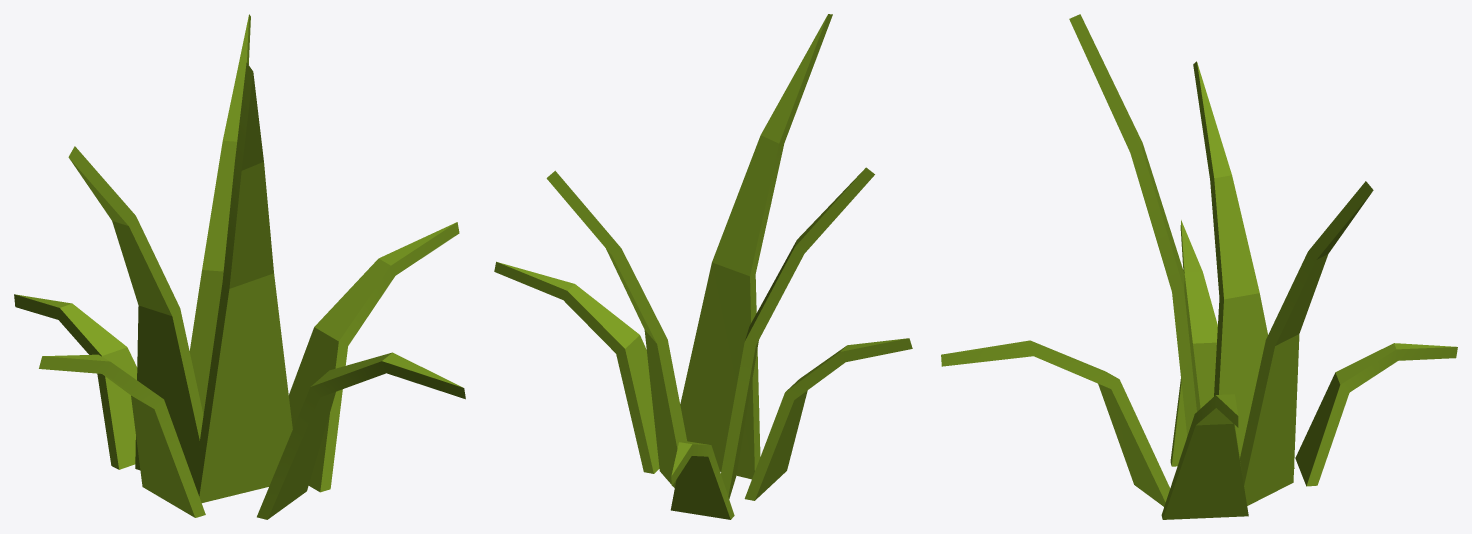
The model's file is LowPolyGrass.fbx.
3 views of the same model, side by side, from view 1: azimuth 30°, elevation 25°; view 2: azimuth 150°, elevation 25°; view 3: azimuth 270°, elevation 25° (orthographic). The views are drawn at different scales.
Visible parts, largest first — view 1: LowPolyGrass_01; view 2: LowPolyGrass_01; view 3: LowPolyGrass_01.
Boxes of the visible parts, x1,y1,x2,y2 form: LowPolyGrass_01: (14, 14, 465, 519); LowPolyGrass_01: (494, 14, 912, 519); LowPolyGrass_01: (941, 14, 1457, 519).
Size of the model in its own units: 76.84 by 79.81 by 83.38.
